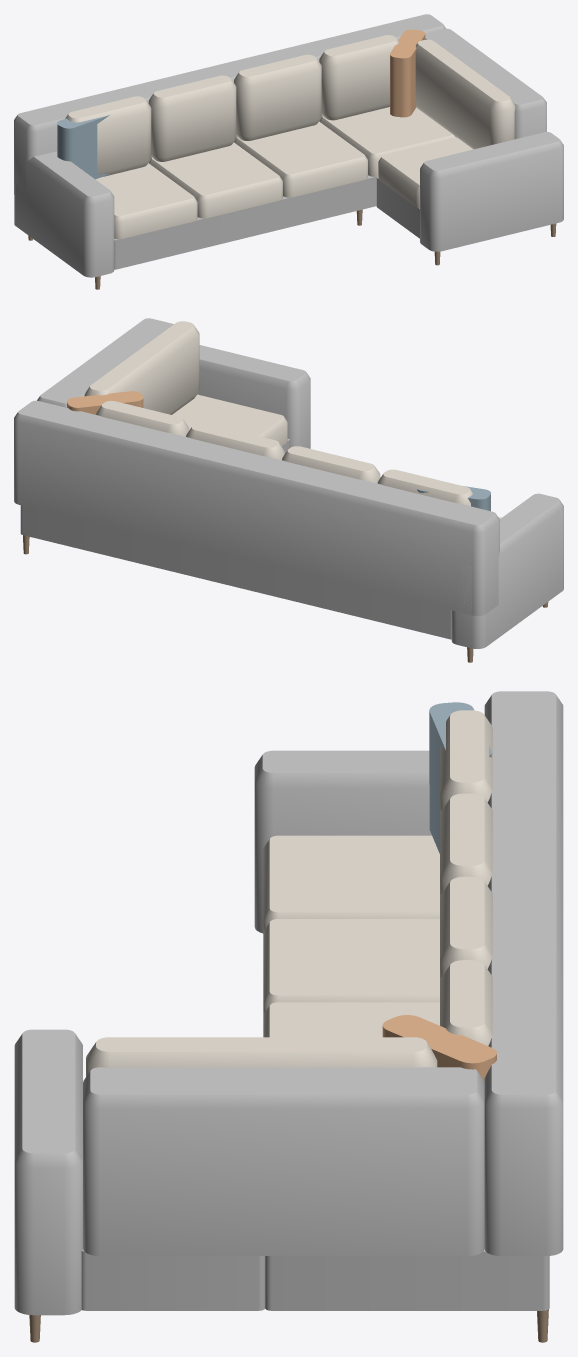
3 views of the same model, one above another, from view 1: azimuth 30°, elevation 25°; view 2: azimuth 150°, elevation 25°; view 3: azimuth 270°, elevation 25° (orthographic). The views are drawn at different scales.
Parts seen in each view (by area): view 1: Sofa góc L Chiều dài=2800; Chiều sâu=900; Dài góc=1600; view 2: Sofa góc L Chiều dài=2800; Chiều sâu=900; Dài góc=1600; view 3: Sofa góc L Chiều dài=2800; Chiều sâu=900; Dài góc=1600.
Boxes of the visible parts, x1,y1,x2,y2 form: Sofa góc L Chiều dài=2800; Chiều sâu=900; Dài góc=1600: (14,14,563,289); Sofa góc L Chiều dài=2800; Chiều sâu=900; Dài góc=1600: (14,318,563,662); Sofa góc L Chiều dài=2800; Chiều sâu=900; Dài góc=1600: (14,691,563,1342).
Bounding box in the file's own units: 2.82 × 0.85 × 1.6.
